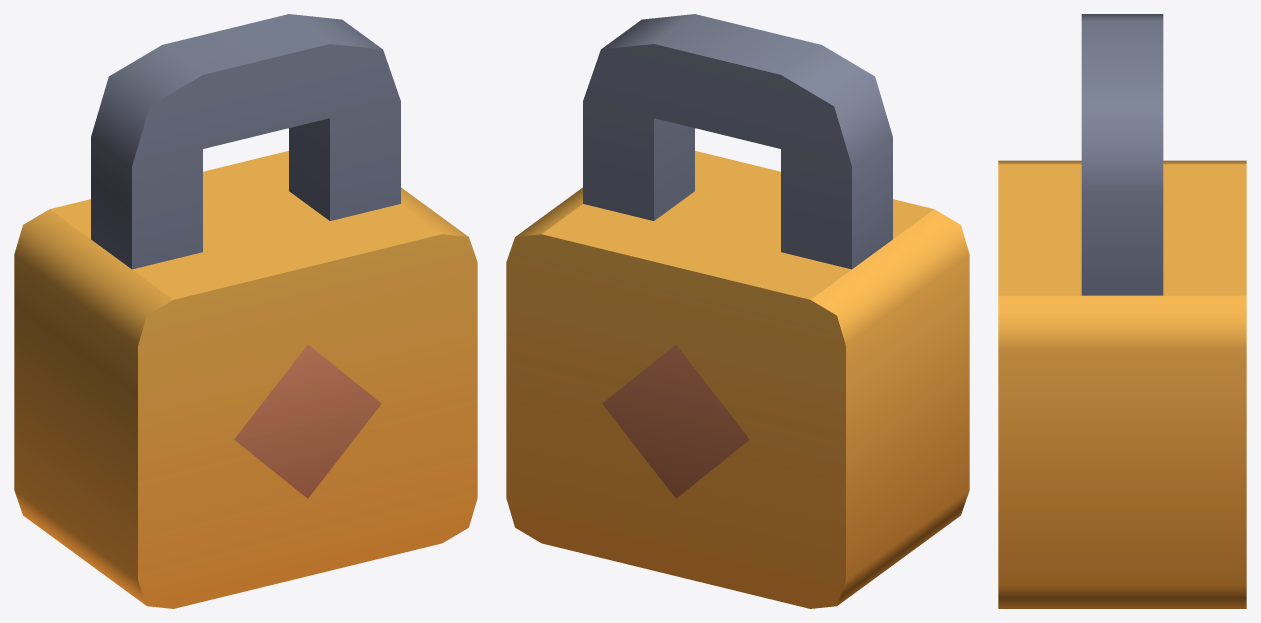
Rendered from kenney-platformer-lock.glb.
The picture shows the model from 3 angles, left to right: view 1: azimuth 30°, elevation 25°; view 2: azimuth 150°, elevation 25°; view 3: azimuth 270°, elevation 25°; orthographic projection.
Parts seen in each view (by area): view 1: lock; view 2: lock; view 3: lock.
Boxes of the visible parts, x1,y1,x2,y2 form: lock: (14, 14, 477, 608); lock: (506, 14, 969, 608); lock: (998, 14, 1246, 608).
Bounding box in the file's own units: 0.2932 × 0.4012 × 0.1853.
1 material, 1 textured.
